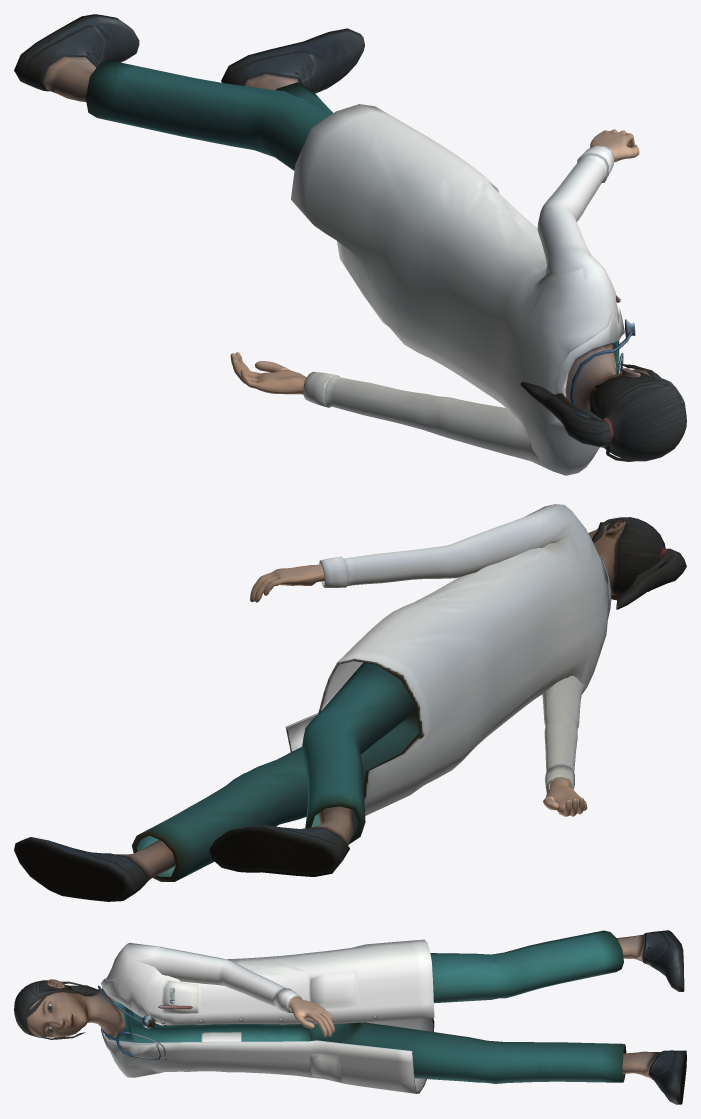
Rendered from walk.obj.
The picture shows the model from 3 angles, top to bottom: view 1: azimuth 30°, elevation 25°; view 2: azimuth 150°, elevation 25°; view 3: azimuth 270°, elevation 25°; orthographic projection. The views are drawn at different scales.
Bounding box in the file's own units: 0.7451 × 0.3735 × 1.7.
Materials: 1 (1 with a texture image).
